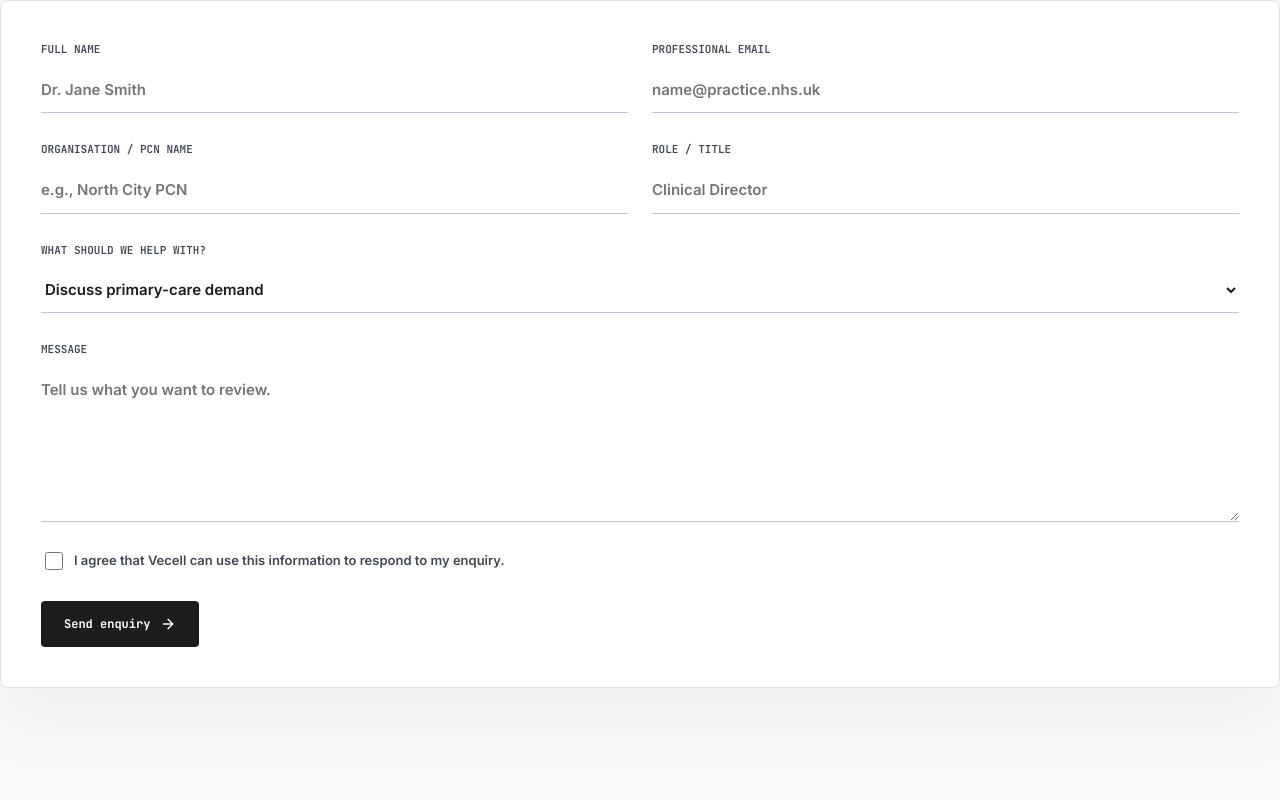
Scenario: ContactForm › shows a recoverable error when submission fails before a response is returned
Type "Sarah Ahmed" into the field labelled "Full name".
click(334, 90); type("Sarah Ahmed")  # box 41,67 -> 628,113
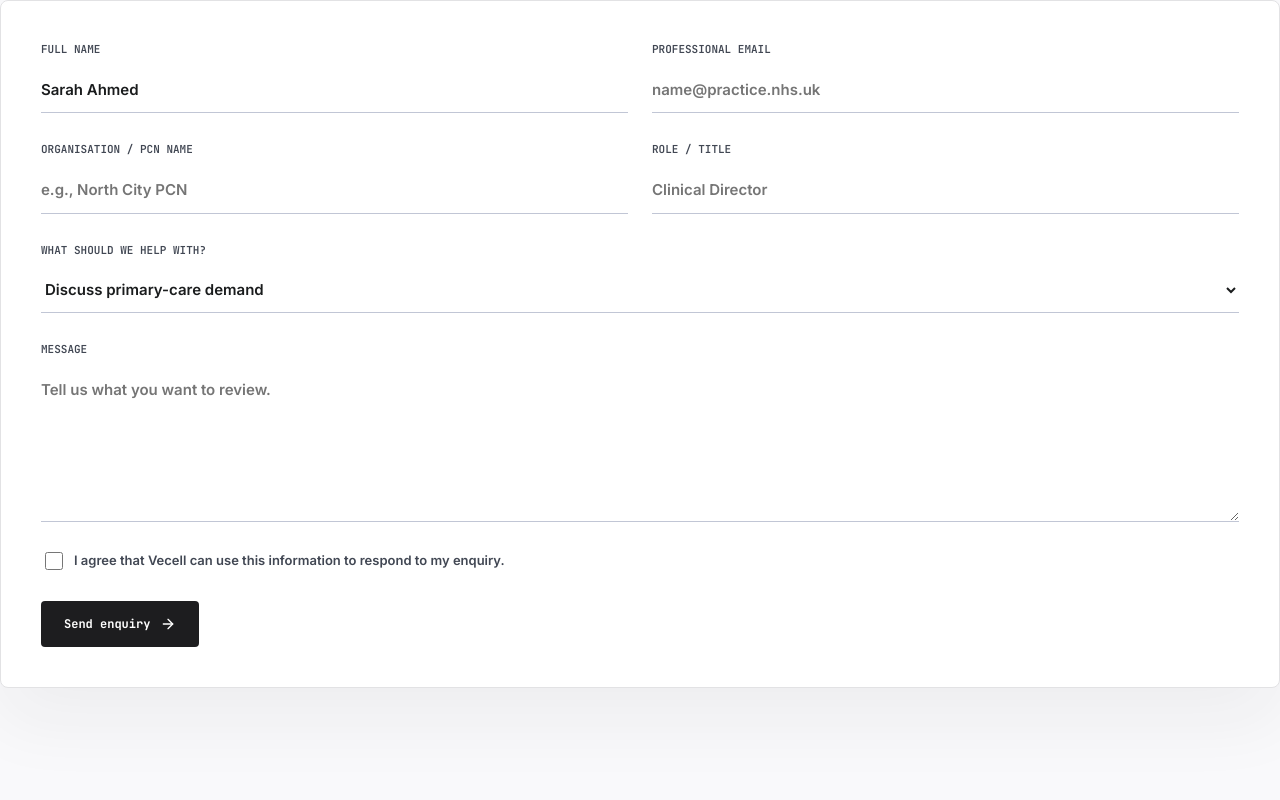
Type "sarah@example.nhs.uk" into the field labelled "Professional email".
click(946, 90); type("sarah@example.nhs.uk")  # box 652,67 -> 1239,113
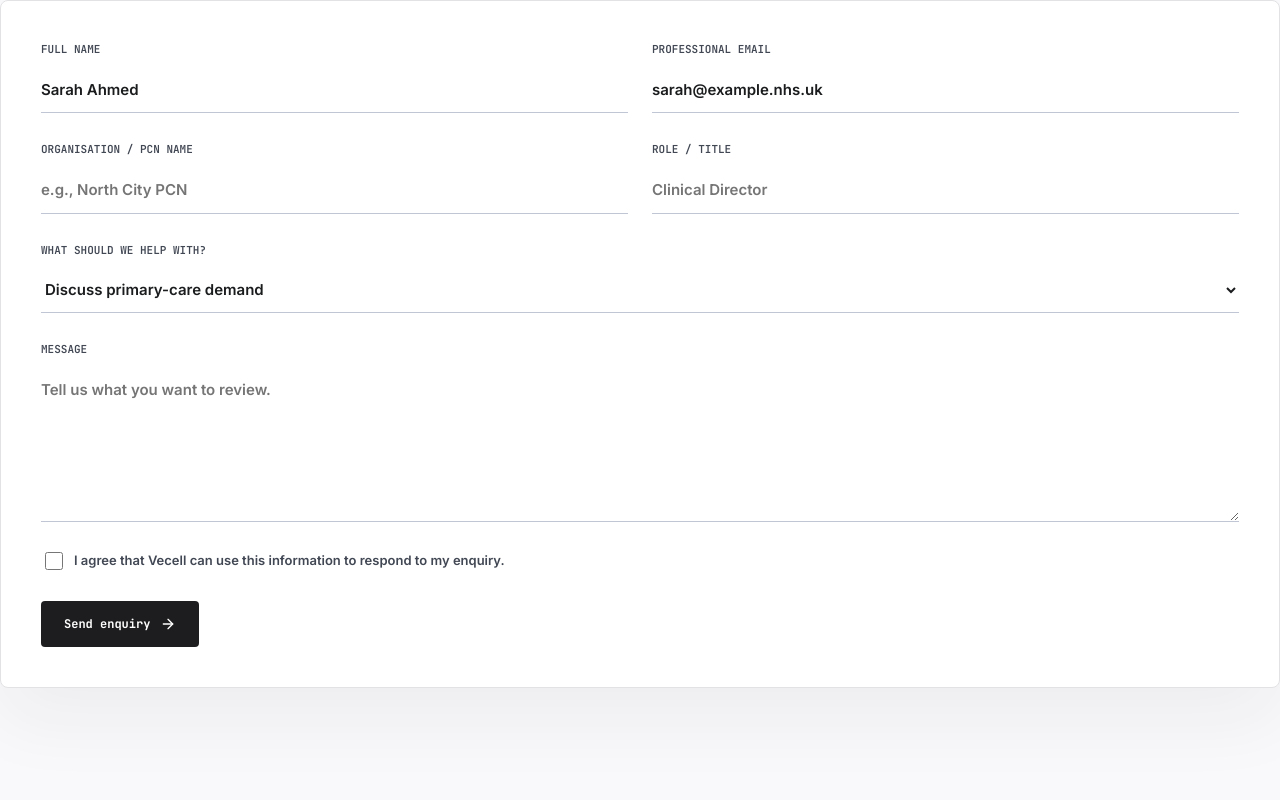
Type "North Hub PCN" into the field labelled "Organisation / PCN name".
click(334, 190); type("North Hub PCN")  # box 41,167 -> 628,214
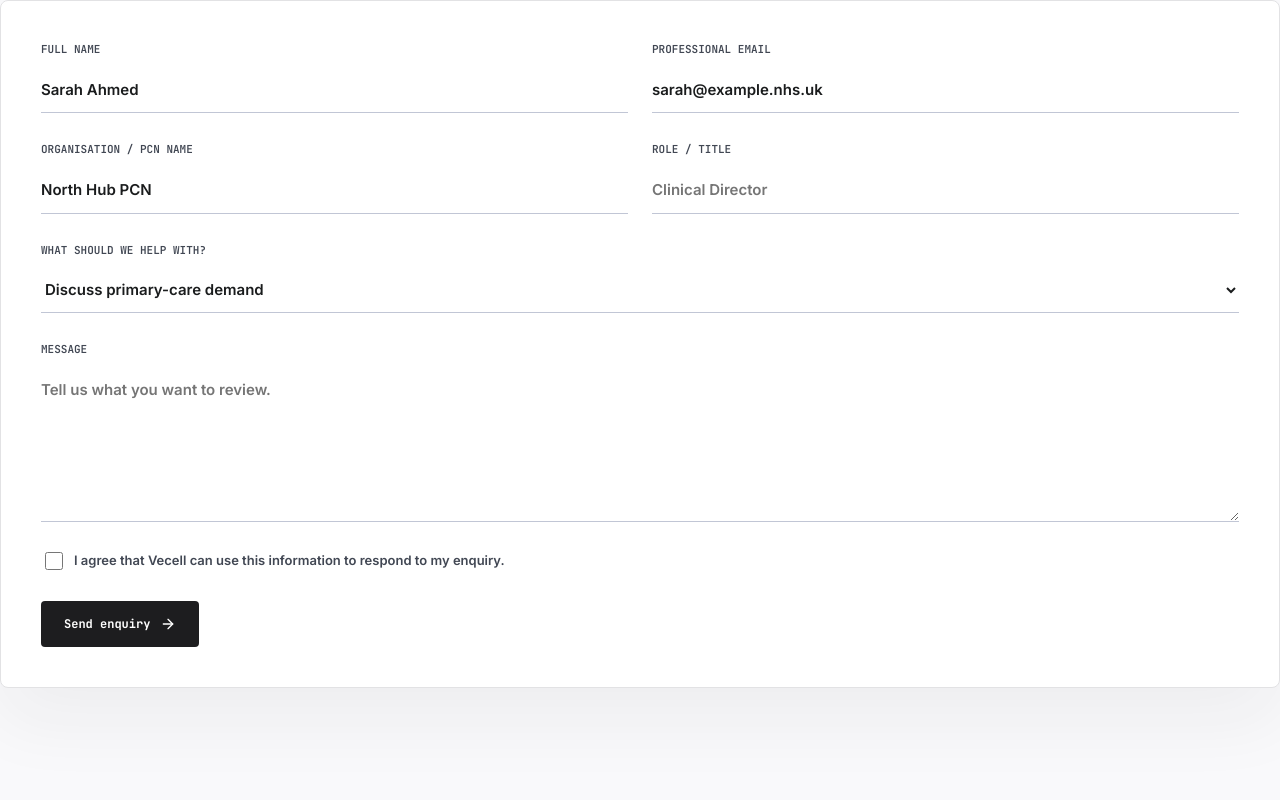
Type "We want to review the request flow and assurance model." into the text box labelled "Message".
click(640, 445); type("We want to review the request flow and assurance model.")  # box 41,367 -> 1239,522
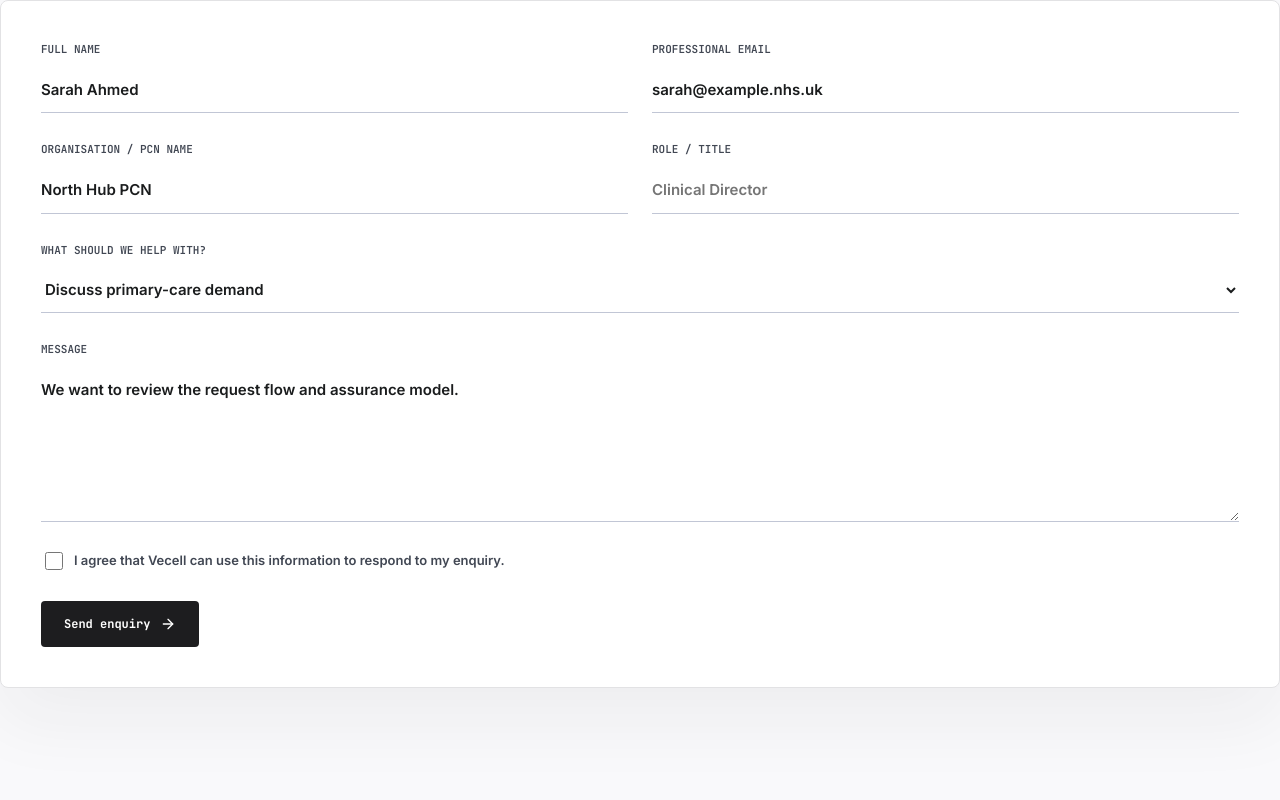
Click the checkbox labelled "I agree that Vecell can use this information to respond to my enquiry.".
click(54, 561)  # box 45,552 -> 63,570
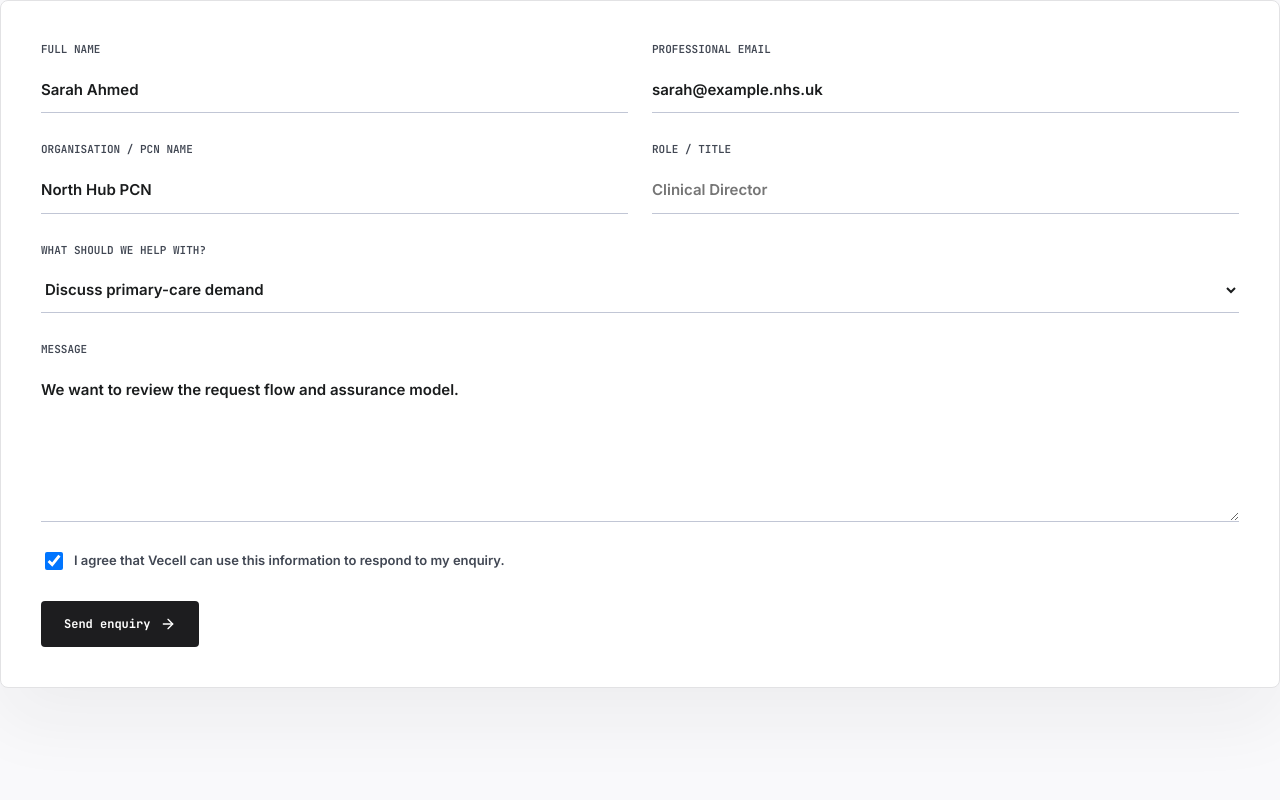
Submit the form named "Send enquiry"
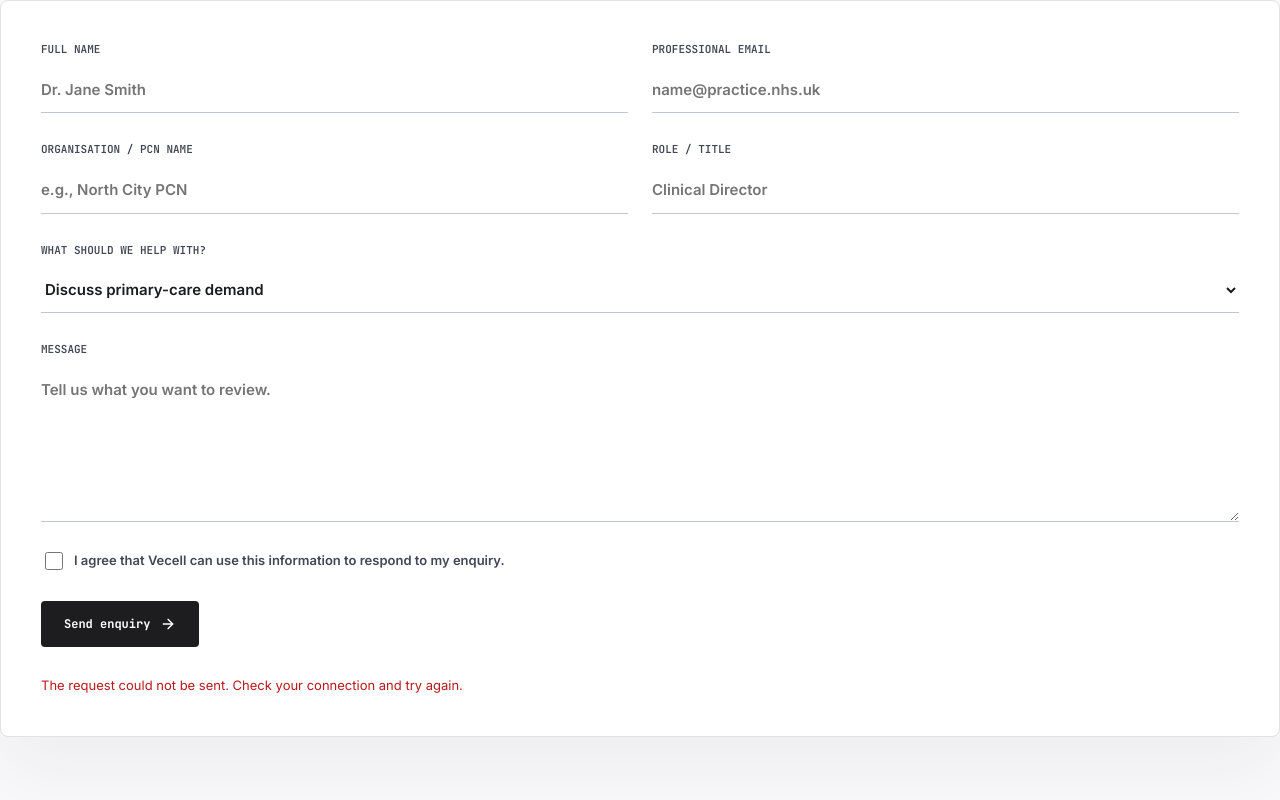
Now the message reads "The request could not be sent. Check your connection and try again.", box 41,677 -> 463,693
